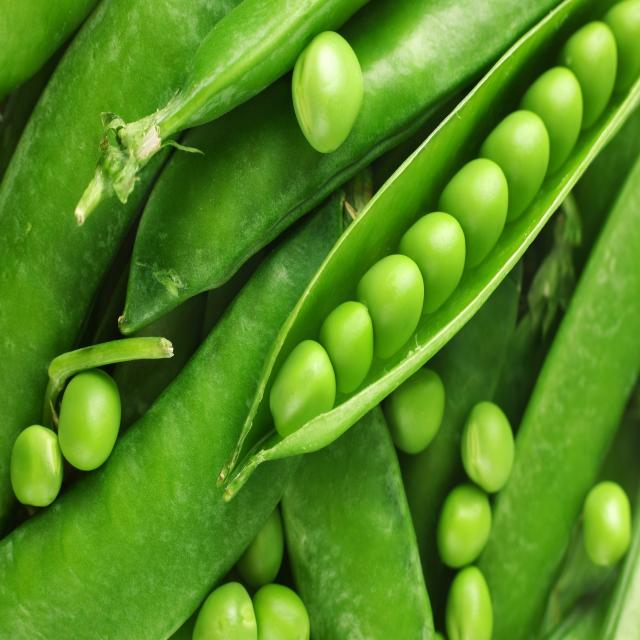Peas: (276, 207, 461, 436), (459, 20, 622, 238), (431, 397, 523, 640)
